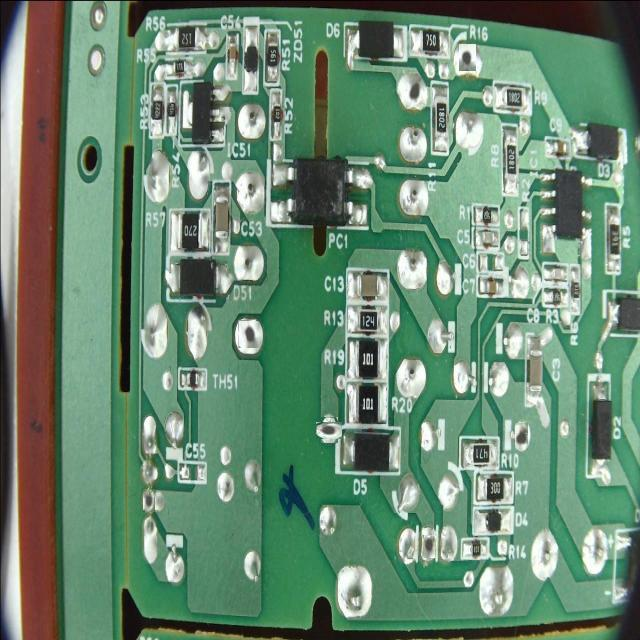damged: (238, 320, 258, 348), (458, 44, 476, 72), (318, 419, 340, 441), (406, 75, 422, 104), (514, 422, 528, 450), (422, 535, 436, 558), (143, 490, 155, 512)
